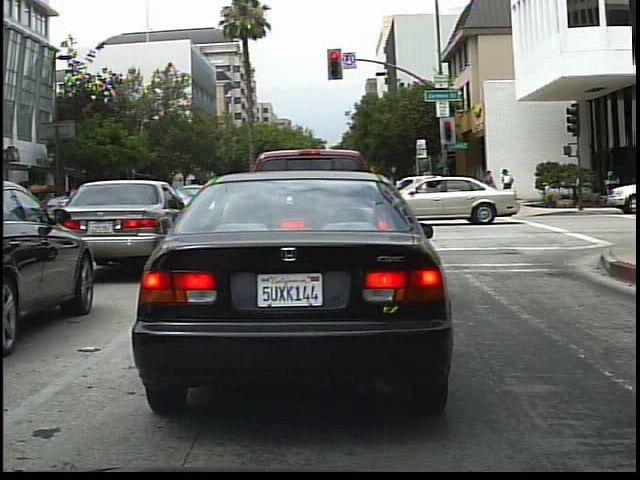person: (106, 171, 142, 230), (497, 163, 517, 206), (479, 165, 498, 207)
